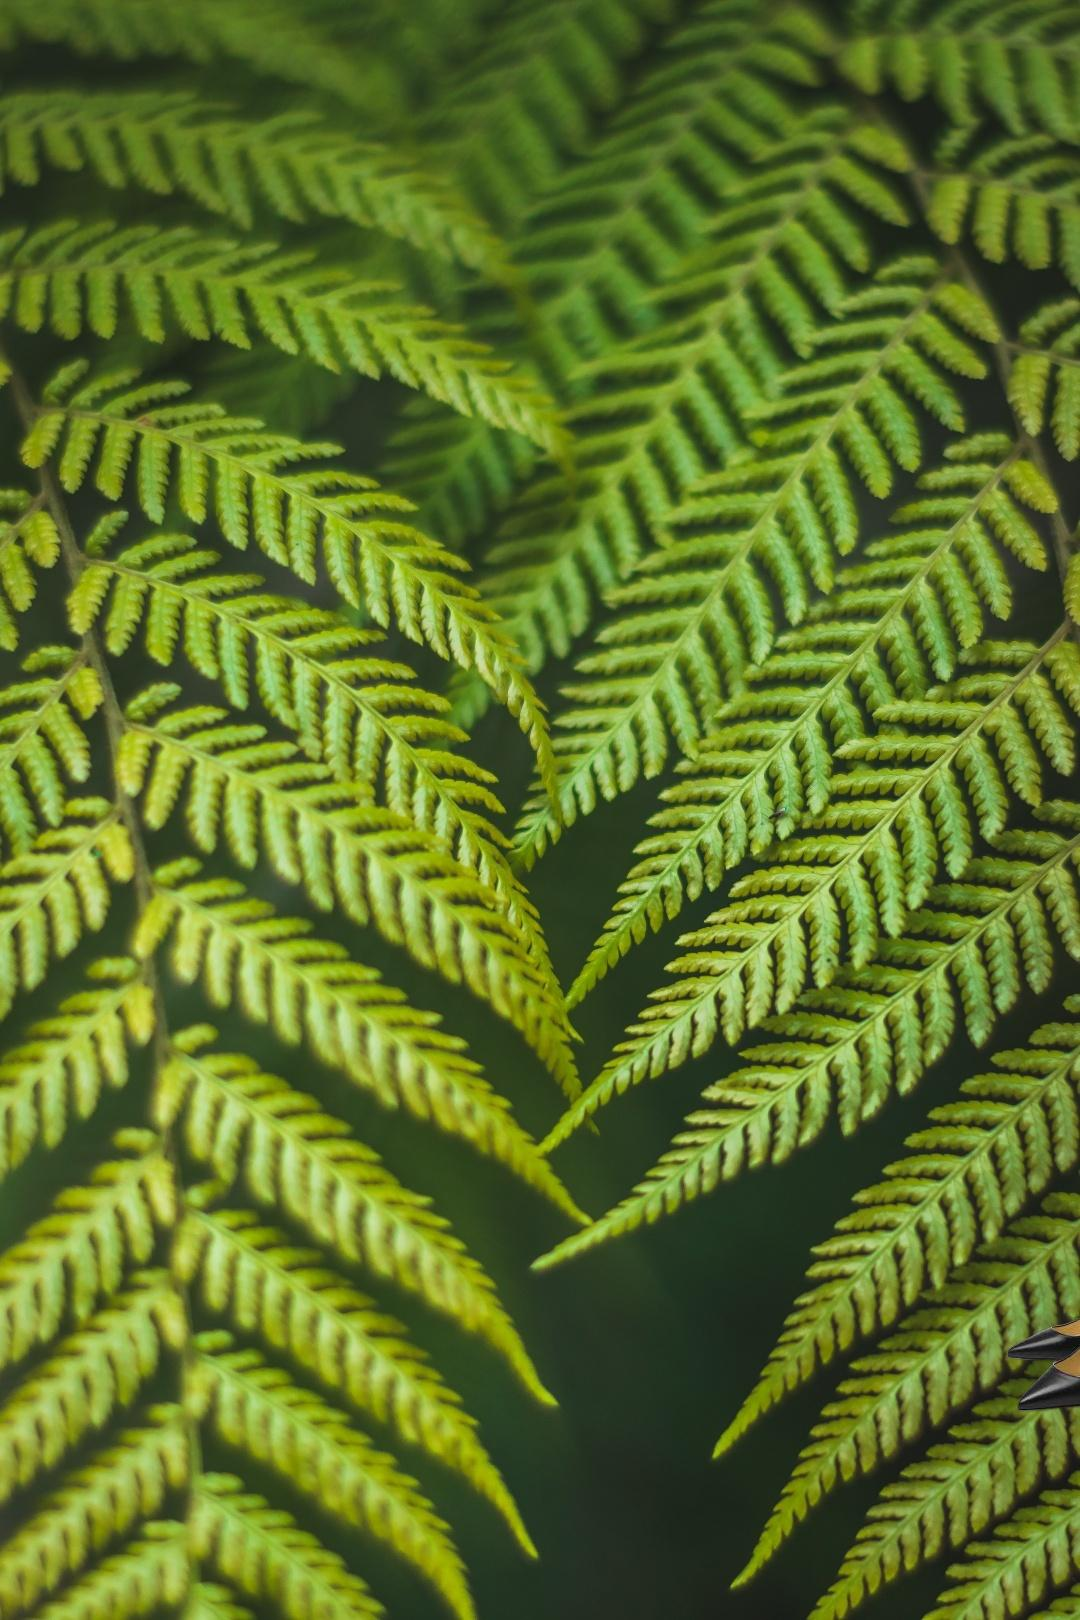shoes: (1004, 1217, 1080, 1415)
